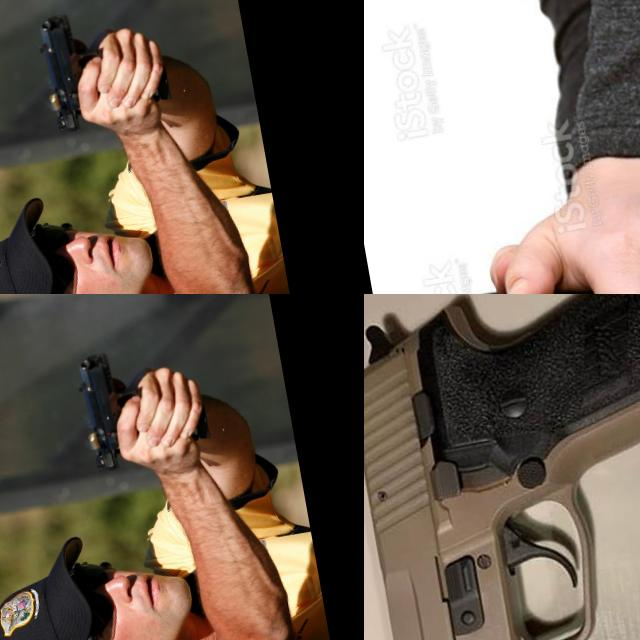handgun: (364, 294, 640, 640), (69, 340, 157, 478), (29, 2, 116, 138)
